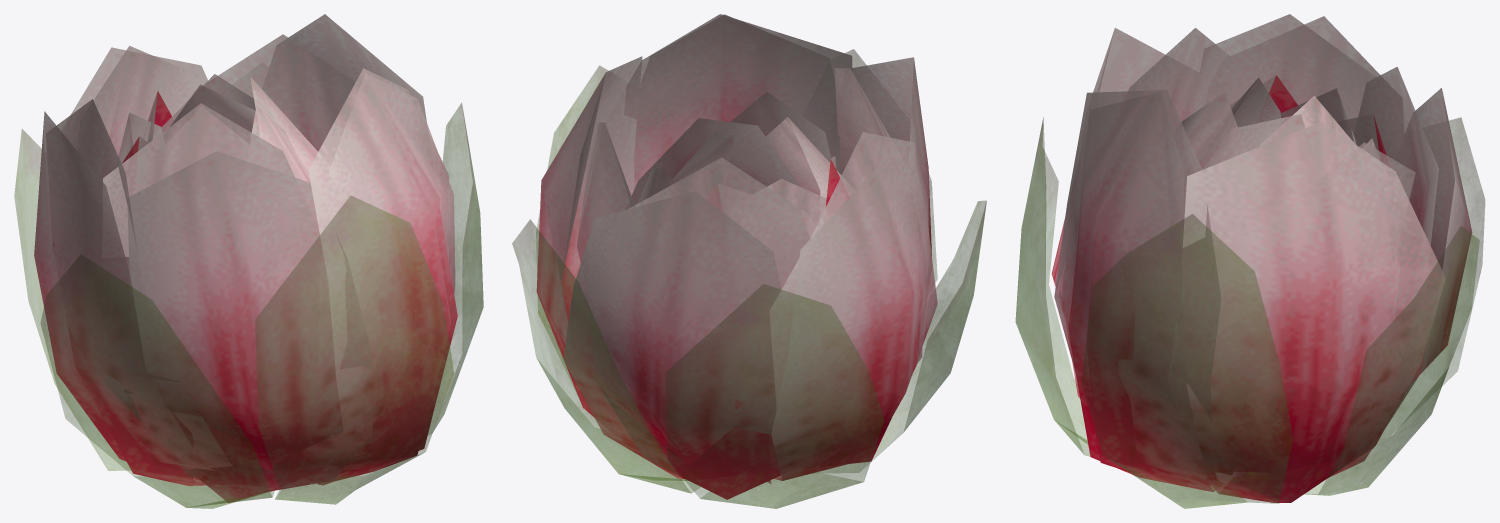
The model's file is preview.glb.
3 views of the same model, side by side, from view 1: azimuth 30°, elevation 25°; view 2: azimuth 150°, elevation 25°; view 3: azimuth 270°, elevation 25° (orthographic). The views are drawn at different scales.
Parts seen in each view (by area): view 1: Lilypad_Flower_Nymphaea_alba_B_Flower_glb, Lilypad_Flower_Nymphaea_alba_B_Leaf_glb; view 2: Lilypad_Flower_Nymphaea_alba_B_Flower_glb, Lilypad_Flower_Nymphaea_alba_B_Leaf_glb; view 3: Lilypad_Flower_Nymphaea_alba_B_Flower_glb, Lilypad_Flower_Nymphaea_alba_B_Leaf_glb.
Boxes of the visible parts, box(x1,y1,x2,y2) form: Lilypad_Flower_Nymphaea_alba_B_Flower_glb: box(34, 14, 457, 503); Lilypad_Flower_Nymphaea_alba_B_Leaf_glb: box(14, 102, 483, 508); Lilypad_Flower_Nymphaea_alba_B_Flower_glb: box(536, 14, 937, 499); Lilypad_Flower_Nymphaea_alba_B_Leaf_glb: box(512, 49, 986, 508); Lilypad_Flower_Nymphaea_alba_B_Flower_glb: box(1051, 14, 1472, 502); Lilypad_Flower_Nymphaea_alba_B_Leaf_glb: box(1015, 117, 1485, 508).
Size of the model in its own units: 0.0648 by 0.0624 by 0.064.
2 materials, 2 textured.
